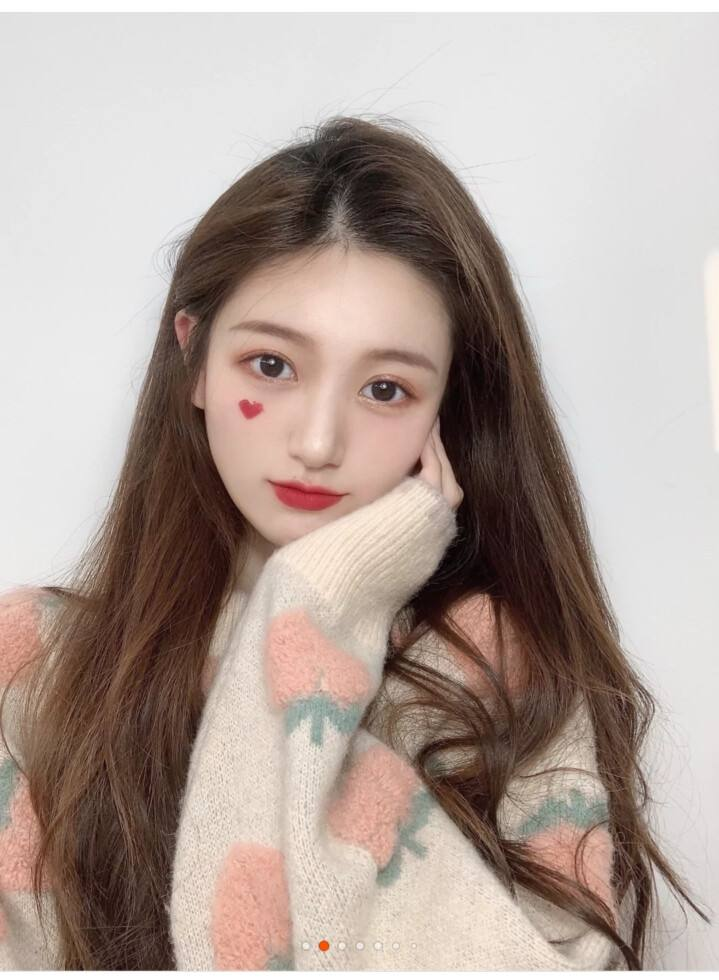person: (79, 166, 708, 980)
